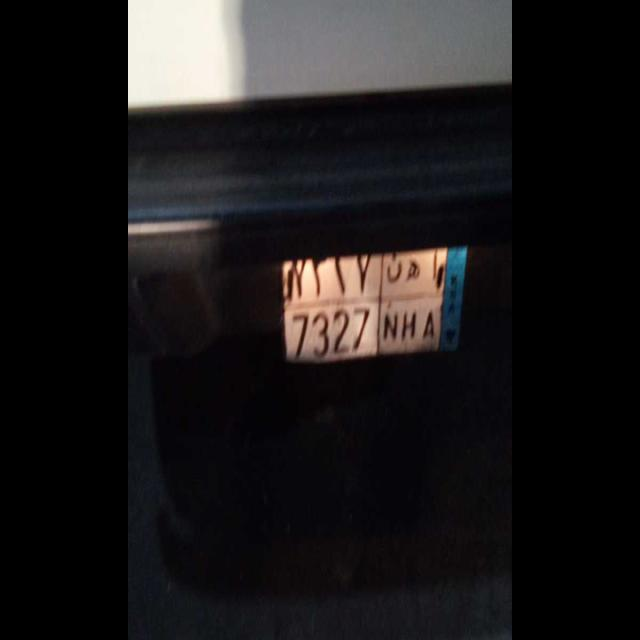license_plate: (287, 304, 443, 373)
